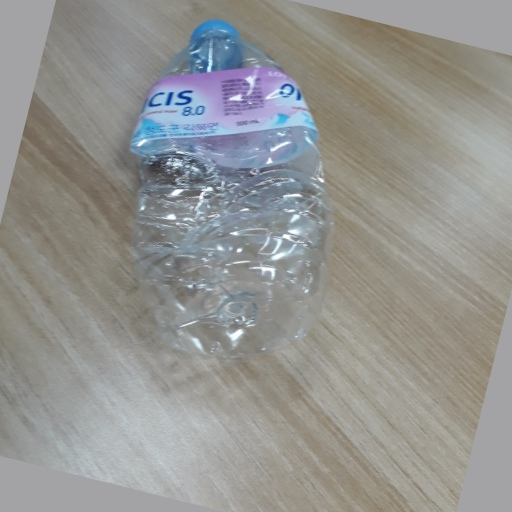Plastic_0: (128, 18, 333, 368)
